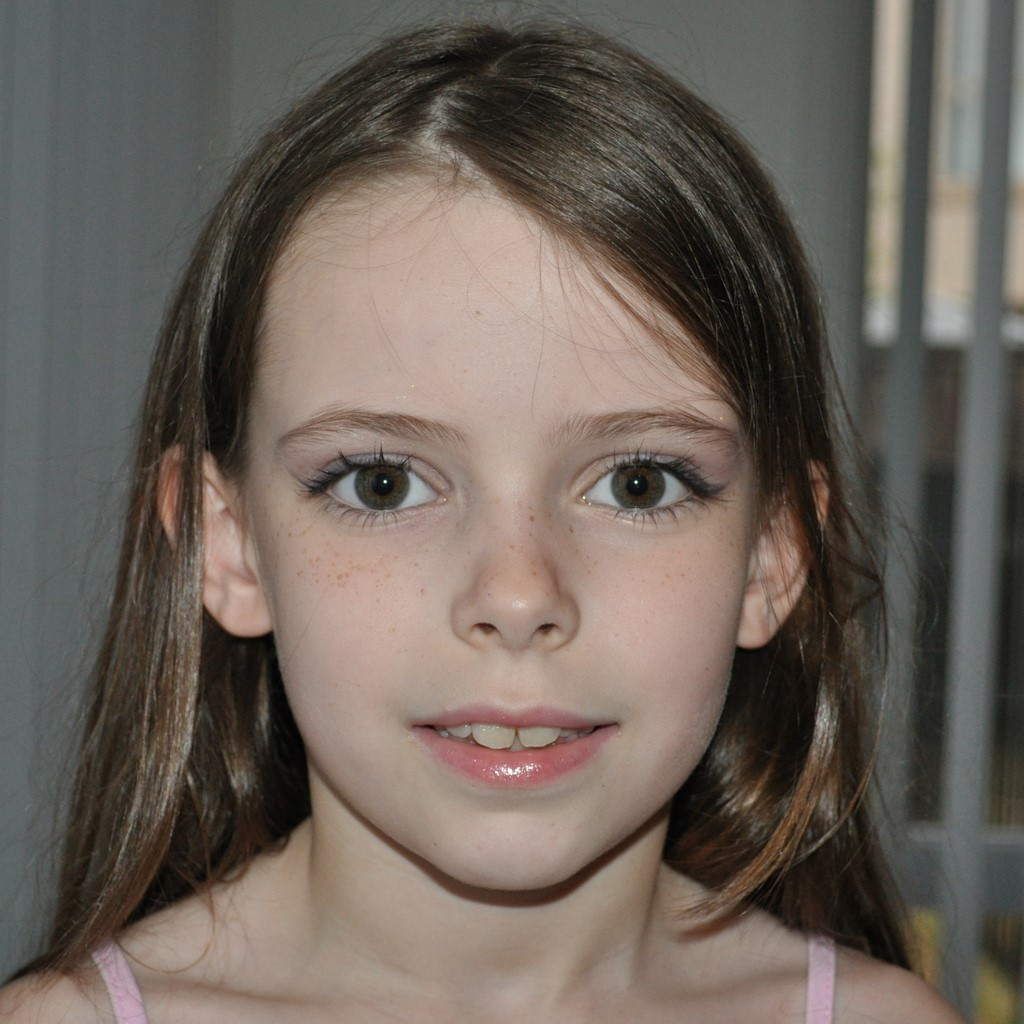sin_mascara: (228, 50, 837, 918)
